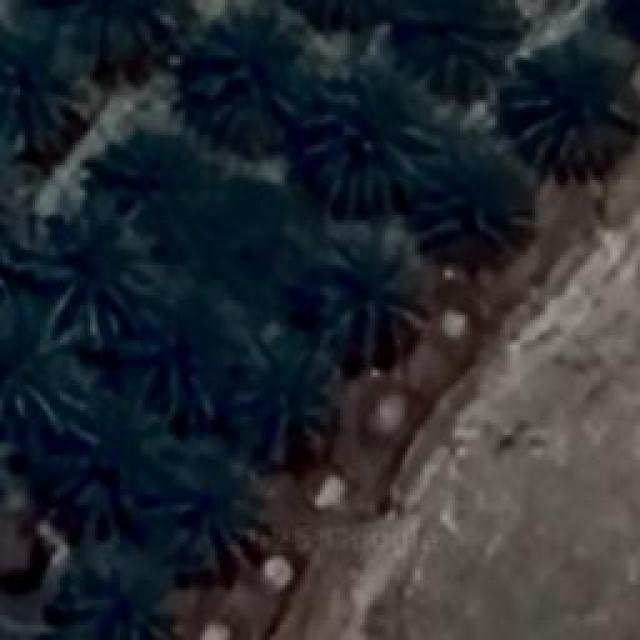PalmTree: (125, 444, 263, 566), (295, 236, 420, 349), (32, 225, 148, 343), (86, 122, 202, 240), (128, 308, 242, 422), (518, 62, 638, 170), (250, 341, 348, 471), (202, 30, 318, 138), (47, 547, 174, 640), (318, 85, 422, 195), (51, 392, 134, 516), (402, 0, 506, 90), (0, 22, 78, 142), (416, 161, 526, 244), (76, 0, 172, 80), (1, 328, 59, 446), (290, 0, 404, 38), (600, 0, 640, 53)
